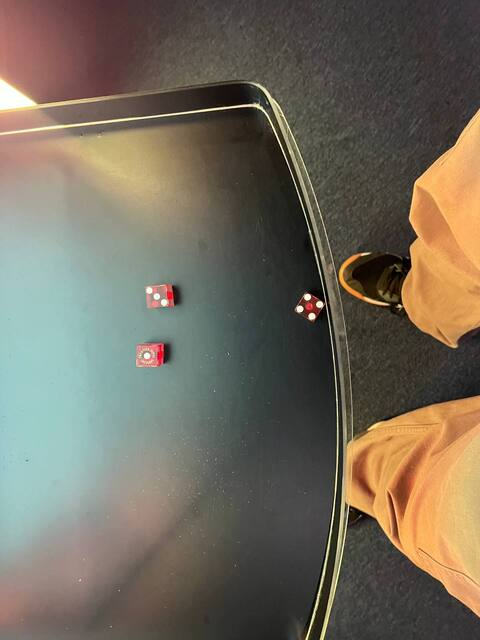four: (292, 290, 327, 323)
one: (132, 340, 163, 371)
three: (141, 283, 176, 312)
